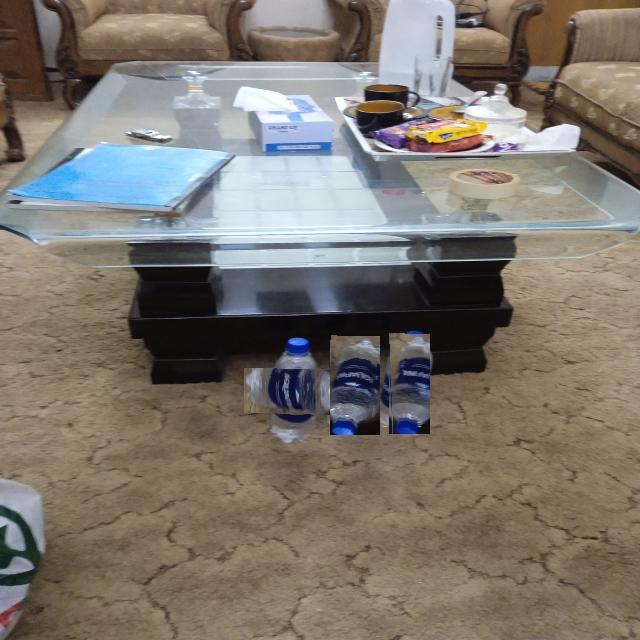Plastic: (259, 353, 336, 429), (330, 336, 380, 436), (388, 332, 430, 434)
